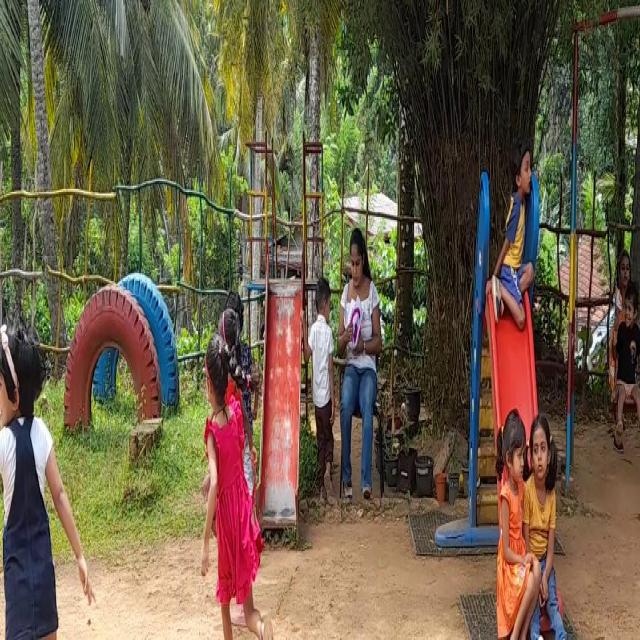adult: (335, 222, 382, 501)
child: (0, 304, 75, 640), (196, 329, 272, 640), (522, 399, 571, 640), (489, 390, 530, 640), (502, 121, 537, 325), (304, 270, 332, 503), (611, 280, 640, 440)
